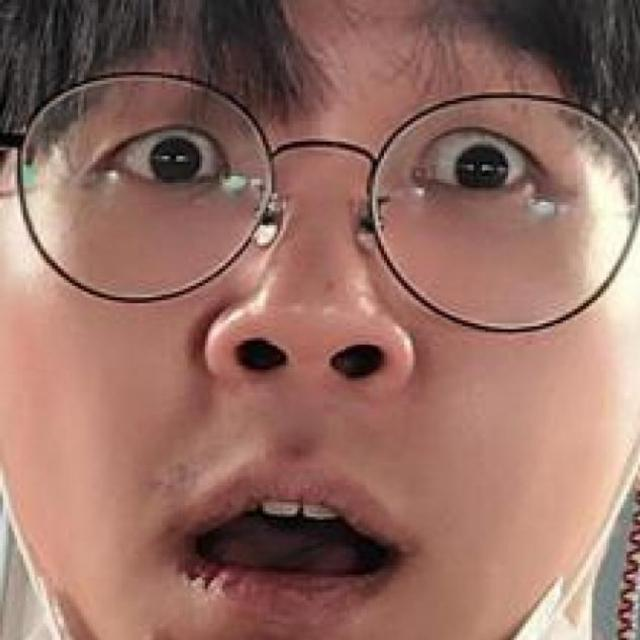Surprised: (19, 0, 594, 640)
